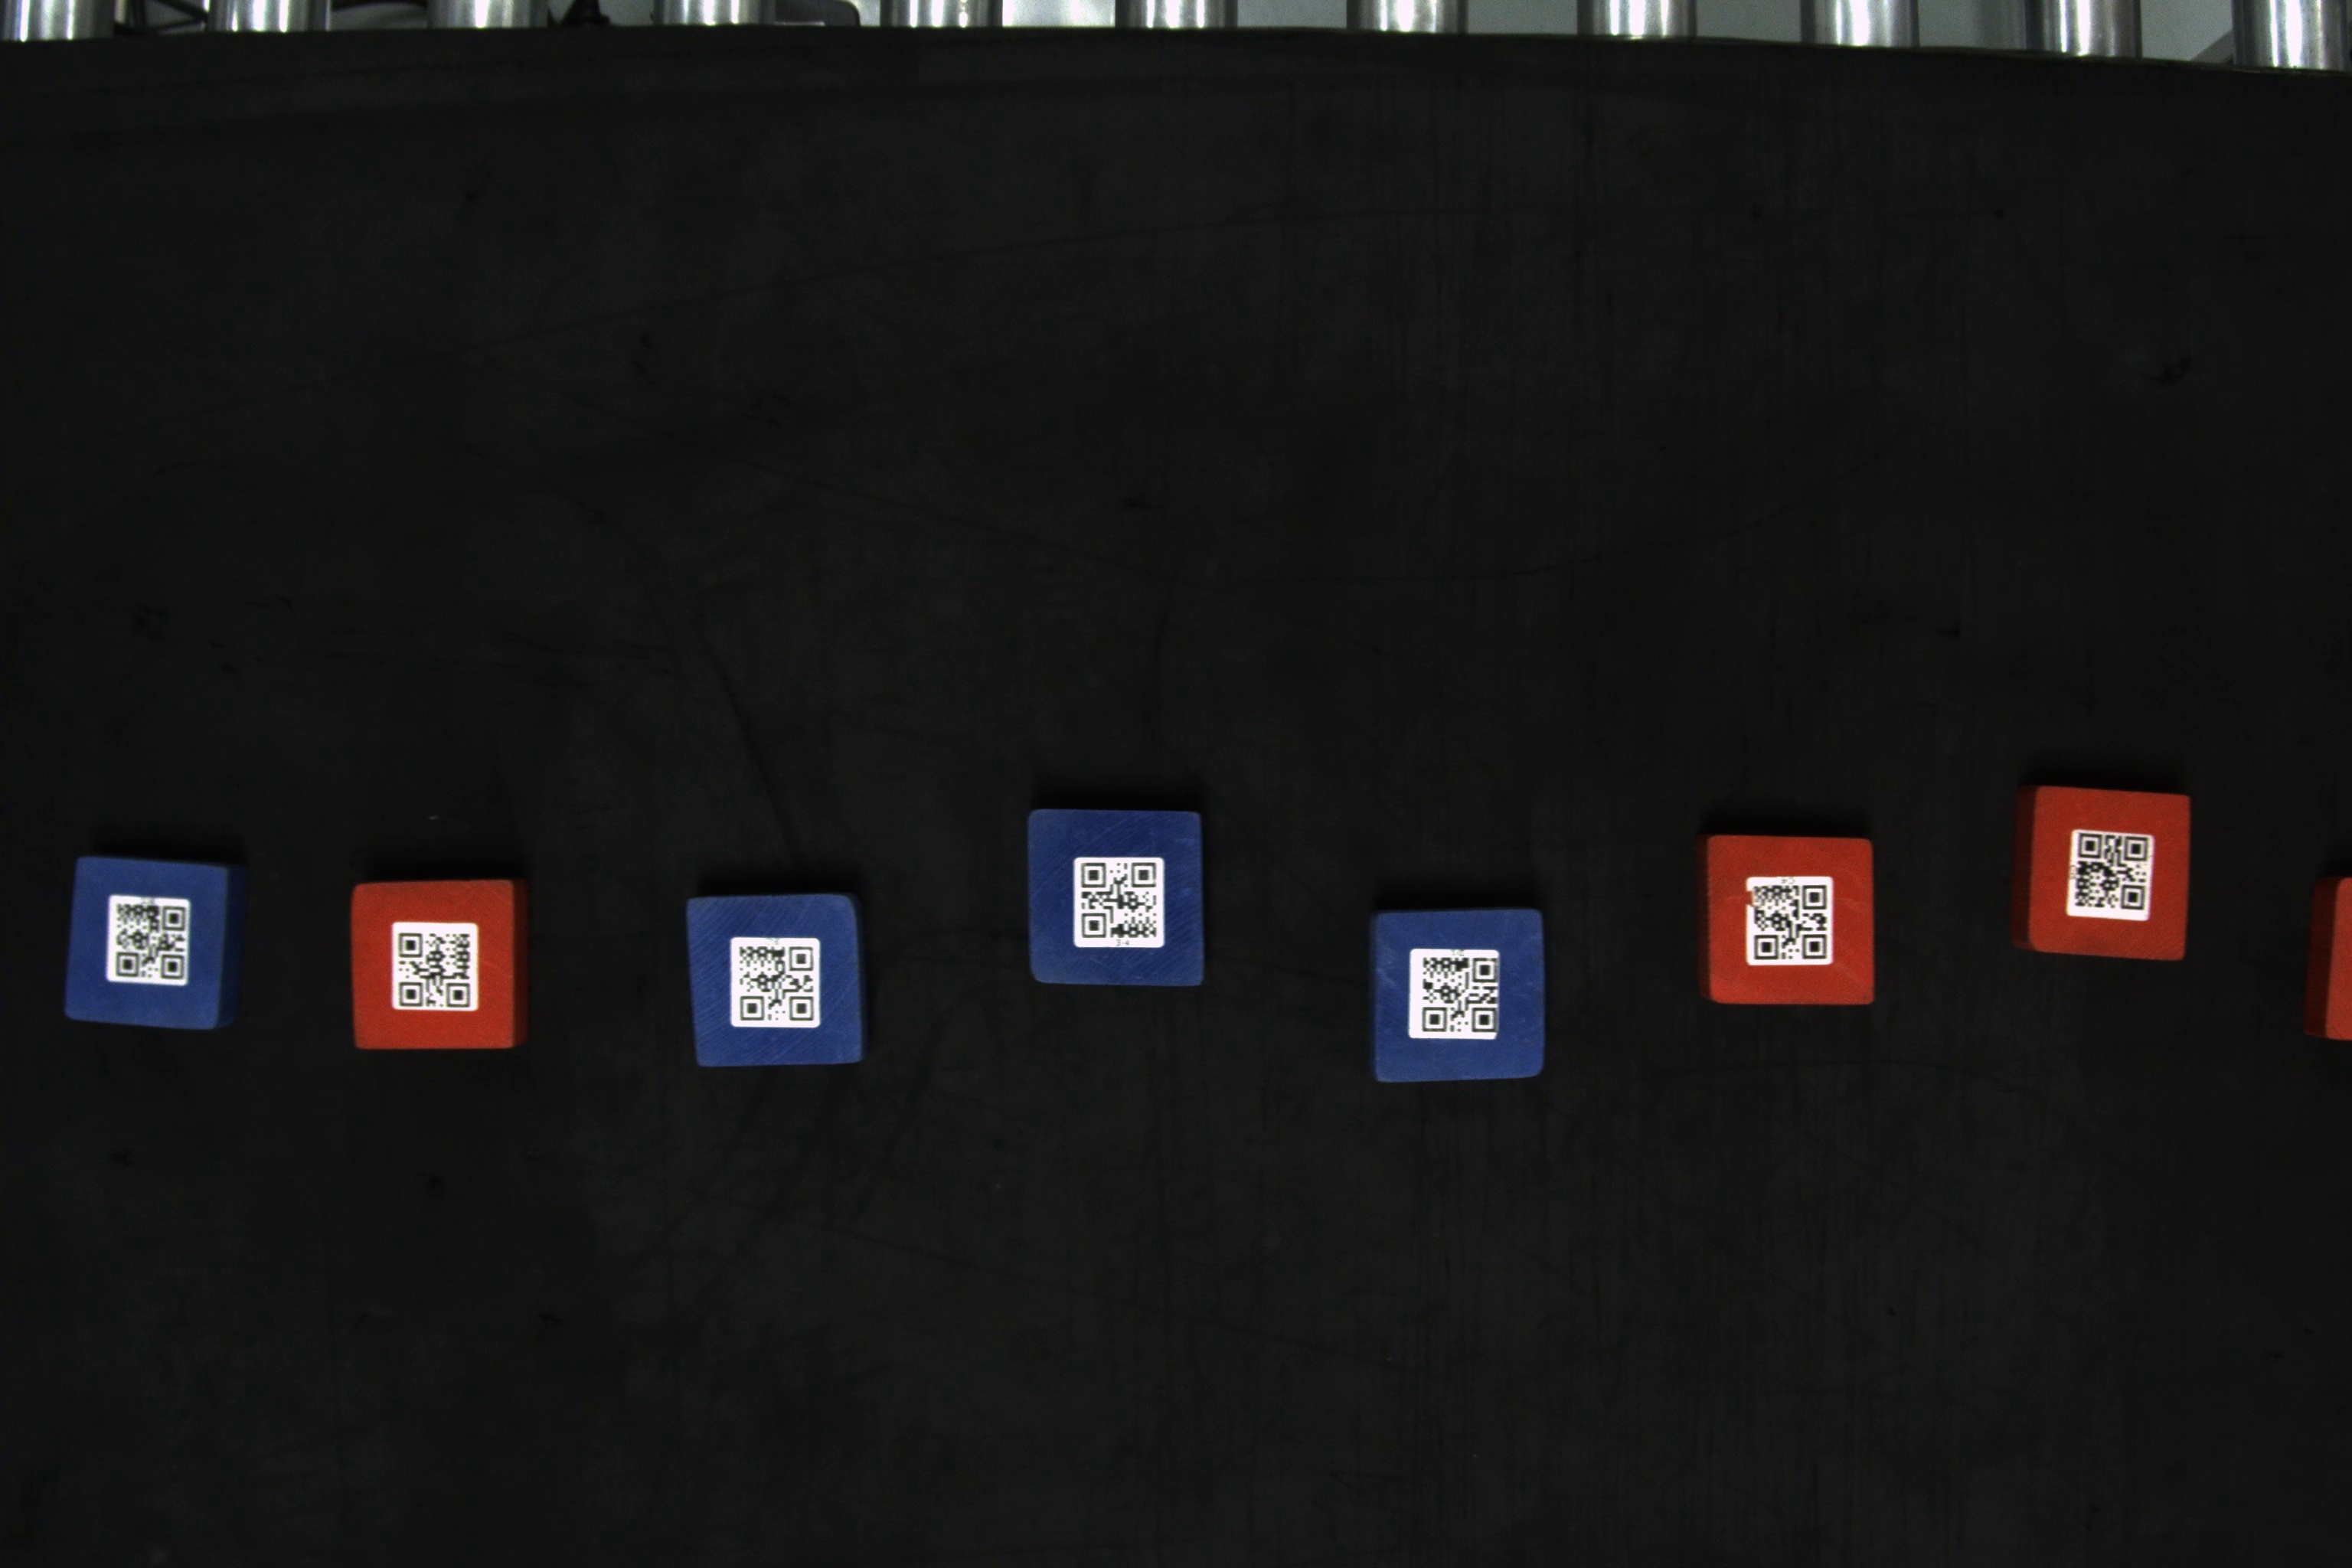wood: (45, 845, 250, 1041), (2009, 779, 2201, 968), (1027, 803, 1214, 994), (677, 887, 868, 1073), (1365, 903, 1556, 1087), (1694, 829, 1881, 1008), (343, 877, 530, 1053)
